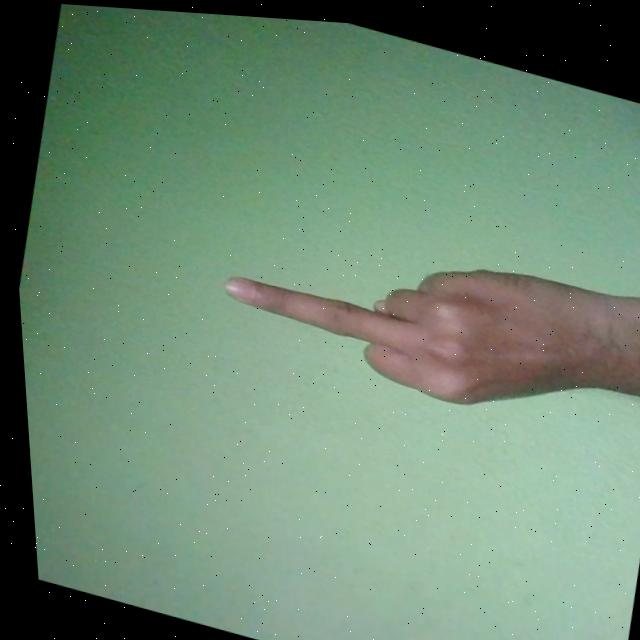Middle Finger: (200, 187, 640, 449)
